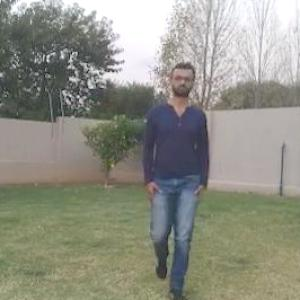follow: (148, 75, 200, 283)
